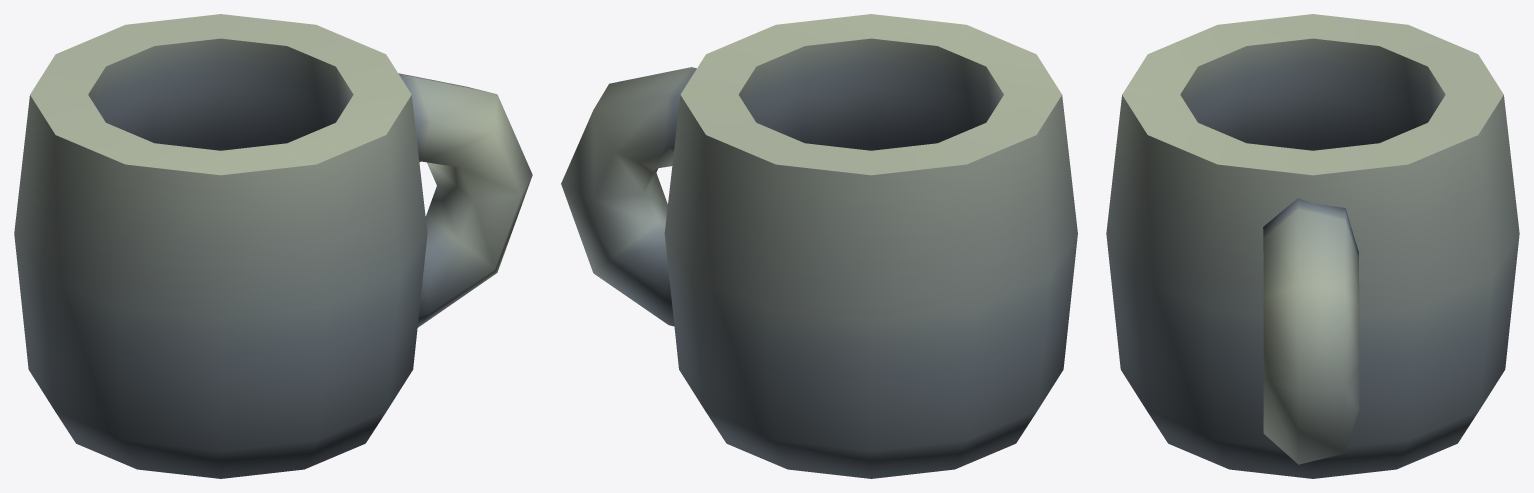
The model's file is cup1_LOD_setup.fbx.
The picture shows the model from 3 angles, left to right: view 1: azimuth 30°, elevation 25°; view 2: azimuth 150°, elevation 25°; view 3: azimuth 270°, elevation 25°; orthographic projection.
Visible parts, largest first — view 1: cup1_LOD0; view 2: cup1_LOD0; view 3: cup1_LOD0.
Part boxes in pixels (x1,y1,x2,y2): cup1_LOD0: (14, 14, 532, 478); cup1_LOD0: (561, 14, 1077, 478); cup1_LOD0: (1106, 14, 1519, 478).
Size of what is drawn, in the model's own units: 52.68 by 32.64 by 38.99.
